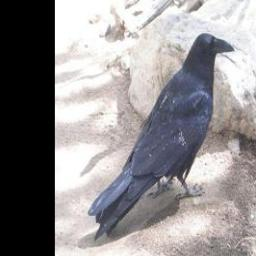Crow: (90, 30, 237, 243)
